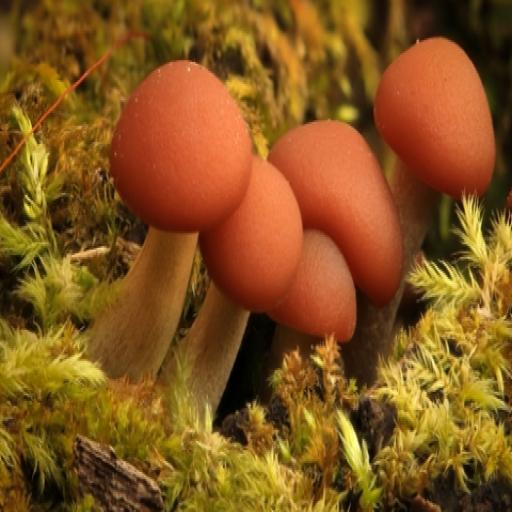Funeral Bell: (86, 36, 499, 427)
